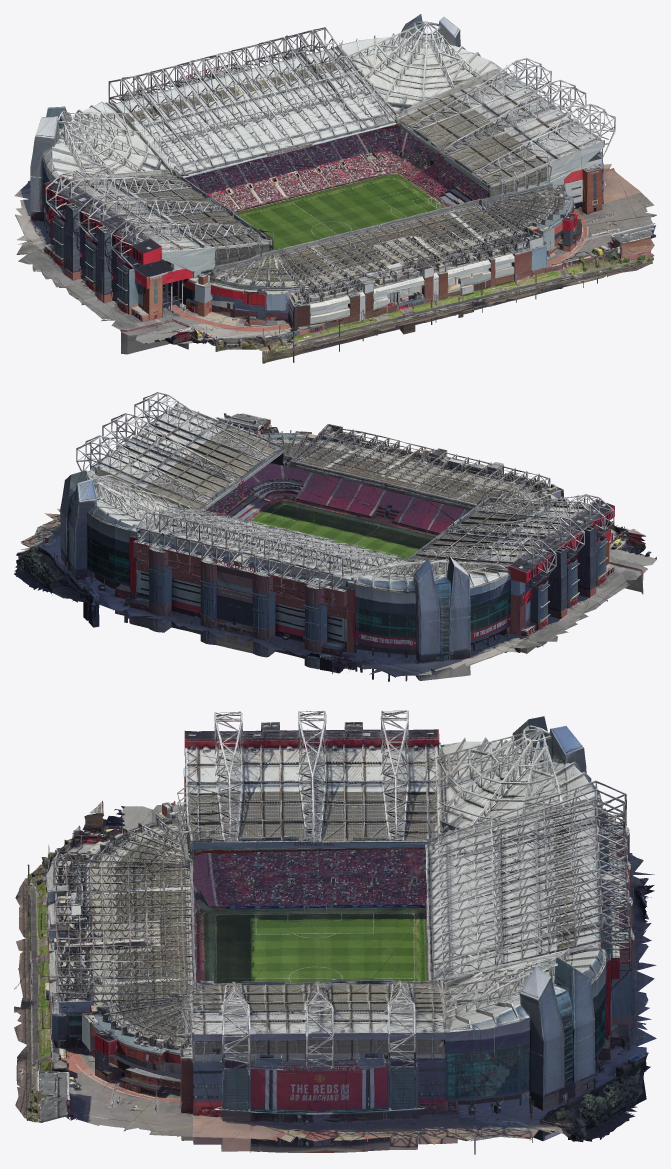
The model's file is old_trafford.glb.
3 views of the same model, one above another, from view 1: azimuth 30°, elevation 25°; view 2: azimuth 150°, elevation 25°; view 3: azimuth 270°, elevation 25° (orthographic). The views are drawn at different scales.
Parts seen in each view (by area): view 1: p11, p84, p83, p132, p38, p2, p22, p73, p81, p89, p74, p128 (+62 smaller); view 2: p26, p81, p42, p73, p31, p50, p87, p93, p128, p40, p27, p52 (+61 smaller); view 3: p106, p65, p96, p135, p29, p73, p83, p113, p25, p72, p130, p84 (+69 smaller).
Part boxes in pixels (x1,y1,x2,y2): p11: (160, 249, 272, 349); p84: (291, 51, 405, 121); p83: (191, 48, 306, 122); p132: (389, 41, 504, 118); p38: (210, 161, 321, 219); p2: (272, 282, 374, 362); p22: (355, 238, 464, 335); p73: (30, 106, 124, 183); p81: (102, 61, 206, 123); p89: (455, 230, 558, 312); p74: (108, 107, 220, 176); p128: (405, 88, 520, 156); p26: (314, 453, 435, 541); p81: (259, 540, 380, 612); p42: (267, 594, 364, 673); p73: (380, 556, 489, 621); p31: (402, 604, 503, 680); p50: (158, 571, 254, 653); p87: (99, 499, 195, 575); p93: (260, 429, 371, 511); p128: (133, 439, 241, 507); p40: (332, 611, 431, 681); p27: (481, 576, 562, 653); p52: (74, 547, 177, 632); p106: (238, 1060, 368, 1152); p65: (199, 754, 348, 848); p96: (26, 1018, 175, 1122); p135: (494, 956, 595, 1057); p29: (306, 847, 426, 931); p73: (455, 716, 586, 800); p83: (471, 829, 620, 926); p113: (351, 1059, 489, 1154); p25: (157, 848, 304, 970); p72: (311, 775, 453, 849); p130: (244, 996, 386, 1071); p84: (430, 895, 577, 987).
Bounding box in the file's own units: 284 × 62.8 × 220.
130 materials, 130 textured.
